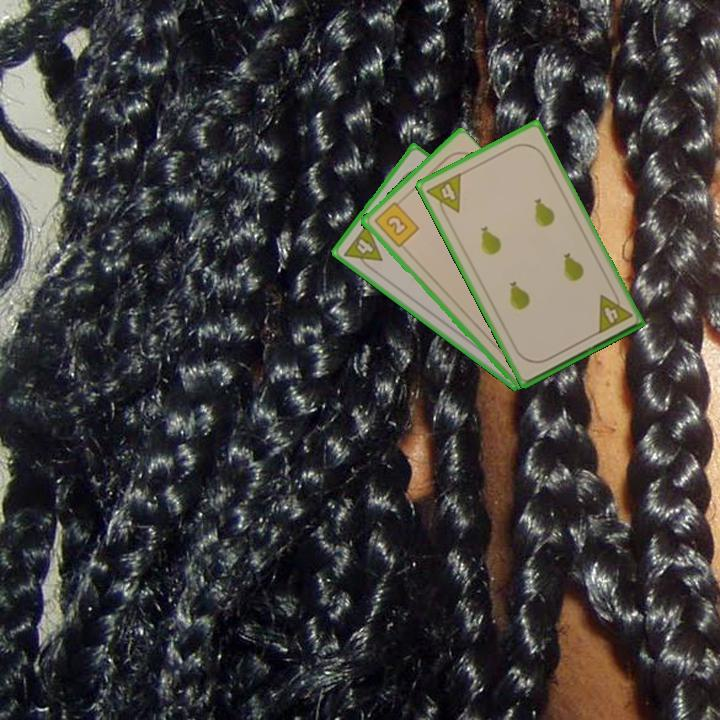2b: (370, 196, 421, 250)
4p: (340, 220, 385, 275), (423, 169, 464, 221), (594, 286, 635, 337)
